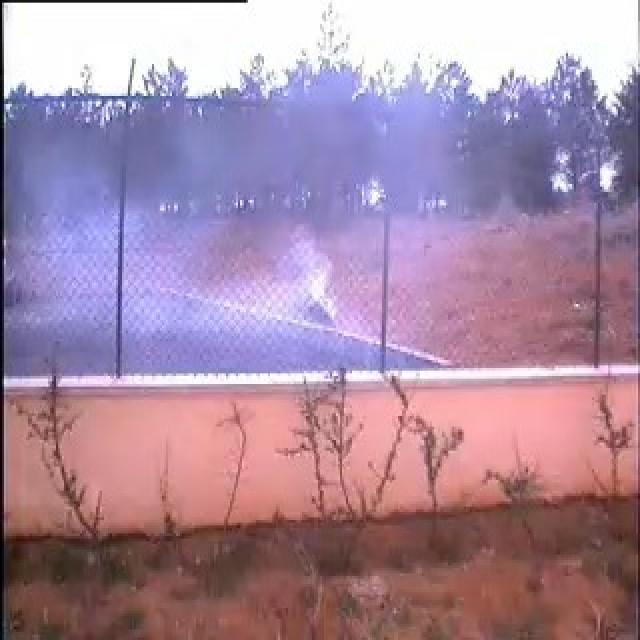smoke: (117, 104, 392, 373)
